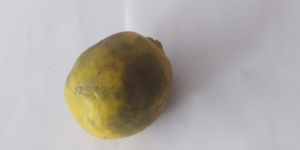BAD: (67, 32, 173, 138)
